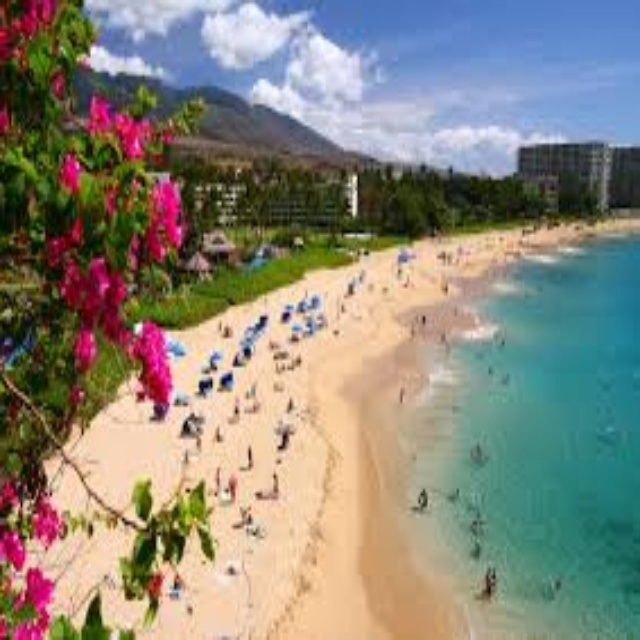linhaEspraiamento: (306, 318, 542, 635), (405, 270, 510, 332), (480, 243, 537, 279), (551, 230, 592, 259), (603, 223, 639, 244)
